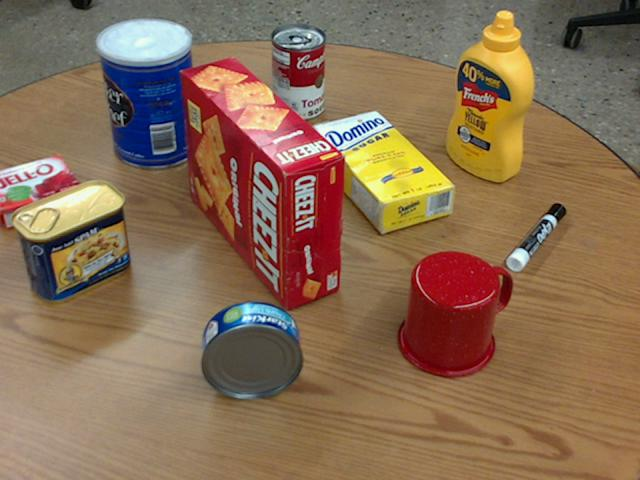cracker_box: (179, 57, 344, 308)
gelatin_box: (0, 154, 82, 226)
large_marker: (507, 203, 566, 271)
master_chef_can: (96, 19, 197, 168)
mug: (397, 250, 512, 376)
mustard_bottle: (447, 12, 534, 181)
potted_meat_can: (10, 179, 128, 300)
sugar_box: (311, 111, 454, 232)
tomato_soup_can: (271, 23, 325, 119)
tuna_fish_can: (202, 301, 304, 398)
